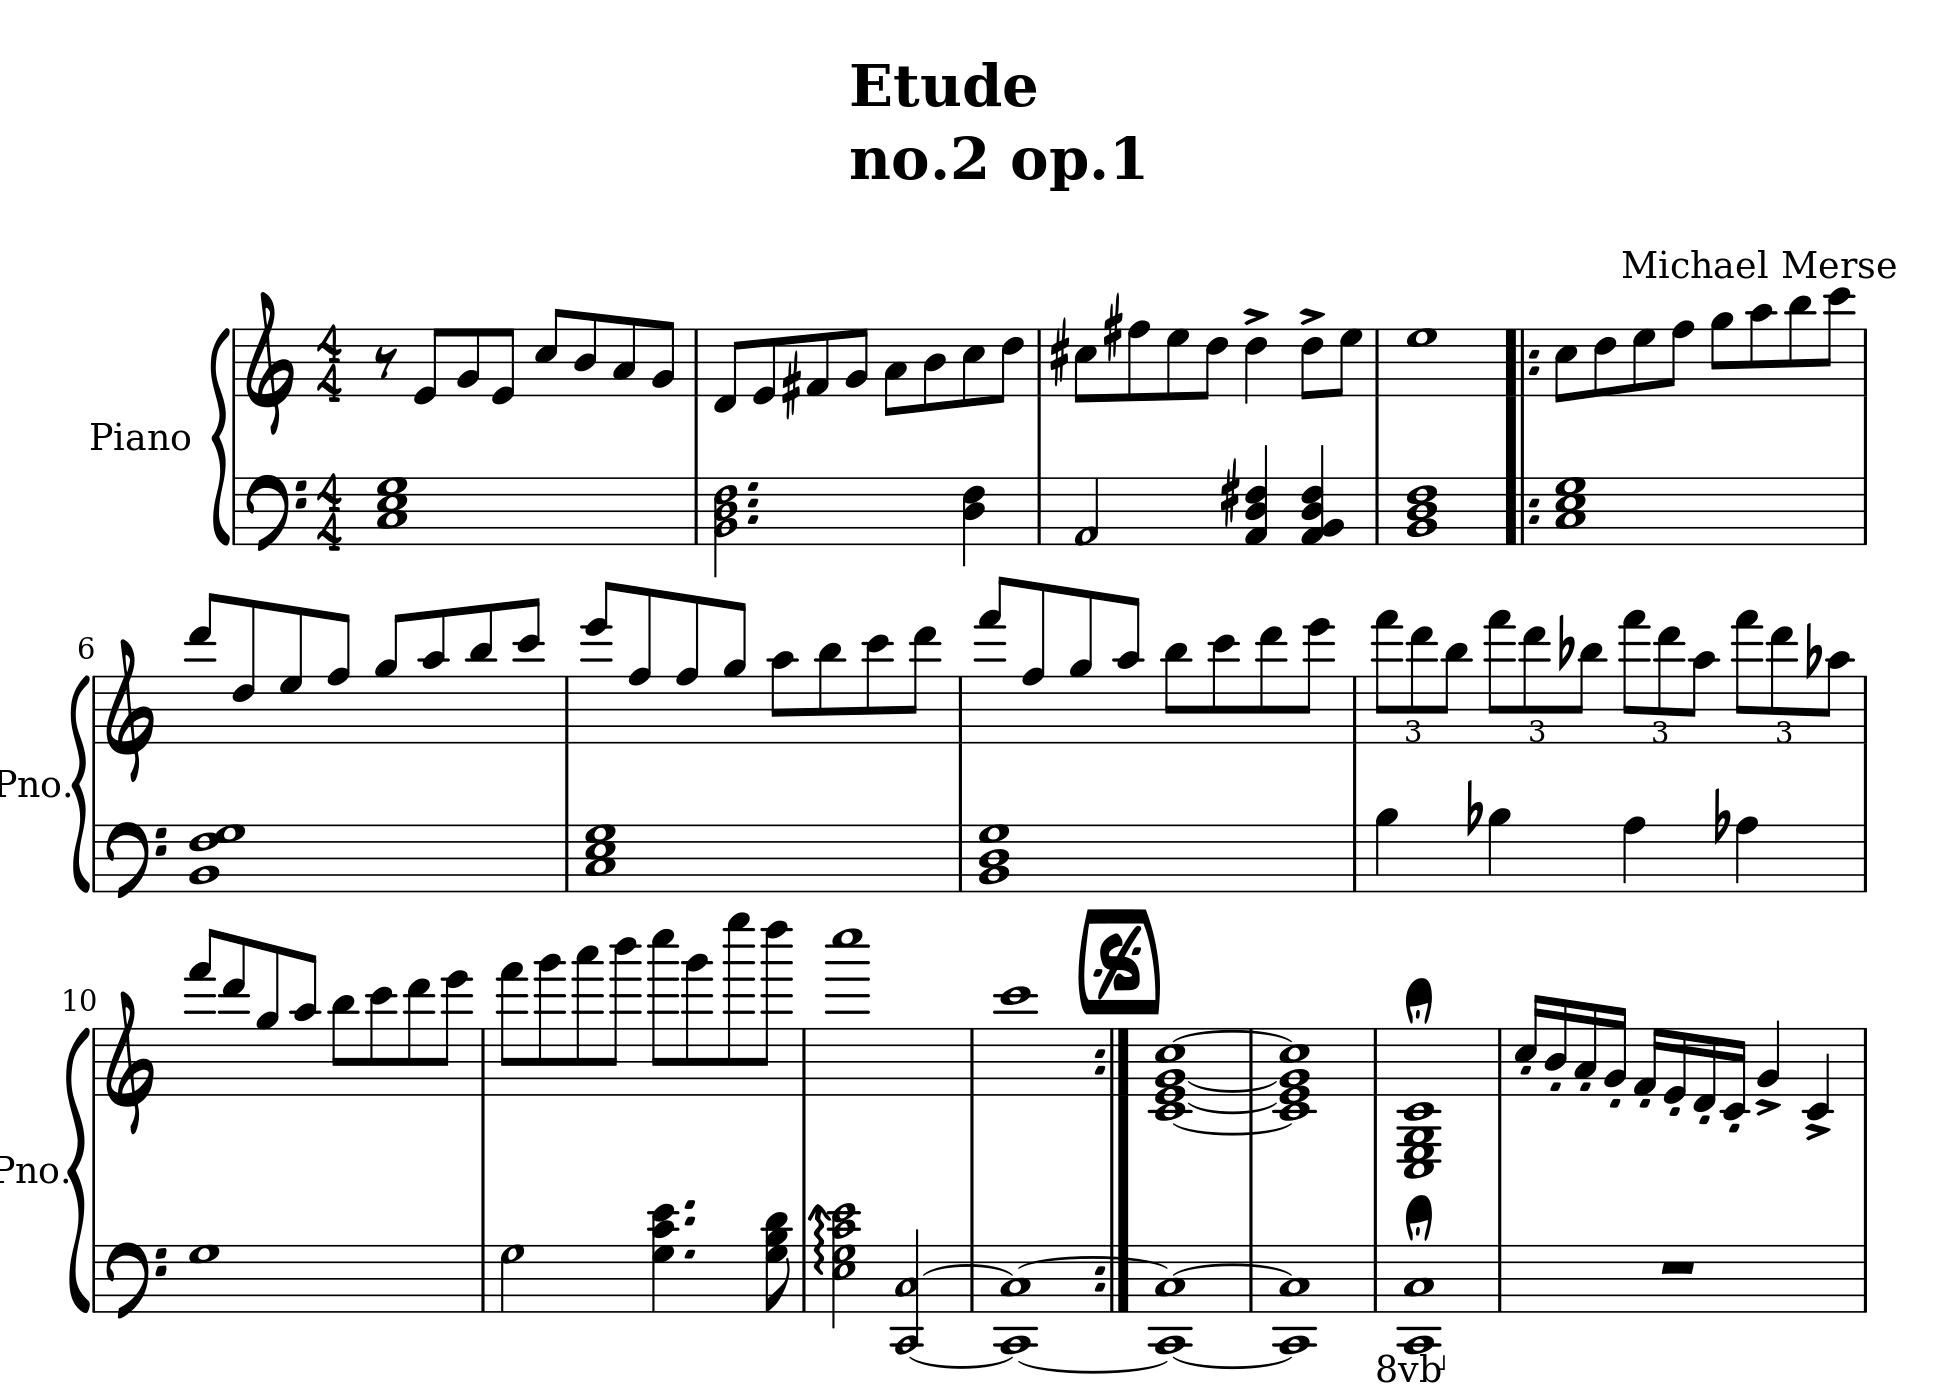0: (78, 984, 96, 1012)
1: (61, 985, 76, 1012)
16_-1: (1692, 1024, 1719, 1113)
16_-2: (1719, 1024, 1747, 1120)
16_0: (1662, 1024, 1689, 1105)
16_1: (1632, 1024, 1663, 1096)
16_2: (1602, 1003, 1627, 1095)
16_3: (1572, 997, 1597, 1095)
16_4: (1545, 994, 1569, 1093)
16_5: (1513, 993, 1545, 1096)
1_-2_3: (1401, 1242, 1440, 1357), (1278, 1243, 1317, 1359), (1149, 1242, 1188, 1357), (997, 1243, 1036, 1359)
1_12: (997, 982, 1035, 1099)
1_4th: (1275, 1027, 1314, 1126), (1152, 1027, 1188, 1122), (1398, 1101, 1440, 1180)
1_7: (1407, 325, 1438, 397)
1_th: (375, 474, 409, 546), (1554, 474, 1588, 544), (976, 822, 1011, 892), (1407, 472, 1440, 544), (583, 820, 616, 892)
2_1: (1072, 475, 1101, 547)
2_4_6: (886, 1230, 925, 1354)
2_4th: (826, 1198, 859, 1330)
2_7: (499, 1242, 525, 1314)
2_th: (712, 475, 738, 576)
3: (1404, 718, 1422, 744), (1776, 718, 1794, 742), (1528, 718, 1545, 742), (1651, 718, 1668, 742)
4: (316, 361, 346, 403), (315, 322, 345, 363), (316, 510, 346, 550), (316, 471, 345, 511)
4_-2: (1803, 1024, 1833, 1120)
4_2: (1755, 1017, 1782, 1093)
4_4_6: (961, 475, 990, 568)
4_6: (1243, 325, 1269, 405)
4_8: (1734, 814, 1759, 894), (1621, 814, 1647, 892)
4_9: (1374, 805, 1401, 892), (1488, 805, 1512, 892)
4_th: (1300, 442, 1344, 547), (646, 1200, 679, 1309), (1245, 442, 1270, 544)
6: (76, 633, 94, 660)
8_-1: (712, 325, 745, 414)
8_0: (412, 325, 445, 406), (489, 325, 517, 408), (751, 327, 778, 406)
8_1: (805, 325, 832, 397)
8_10: (1114, 592, 1143, 745), (291, 948, 319, 1099), (418, 606, 448, 744), (1821, 649, 1854, 745), (768, 648, 796, 745), (1689, 648, 1717, 745), (1747, 301, 1776, 397)
8_11: (466, 601, 493, 745), (1573, 640, 1605, 744), (814, 640, 844, 745), (1440, 640, 1470, 745), (328, 993, 358, 1096), (1786, 294, 1815, 397), (1162, 640, 1191, 744)
8_12: (513, 592, 543, 745), (1821, 286, 1854, 397), (1209, 631, 1239, 745), (862, 633, 892, 745), (367, 984, 396, 1098)
8_13: (183, 588, 219, 745), (219, 930, 249, 1099), (904, 625, 940, 745), (1255, 624, 1287, 745), (403, 976, 433, 1098), (1407, 622, 1435, 745), (1654, 622, 1683, 745), (1768, 624, 1795, 747), (1521, 624, 1548, 745)
8_14: (580, 579, 615, 747), (1299, 616, 1335, 744), (436, 970, 472, 1095)
8_15: (973, 574, 1009, 745), (183, 925, 217, 1096), (496, 961, 529, 1098), (1372, 607, 1401, 747), (1732, 607, 1761, 744), (1620, 610, 1647, 745), (1485, 610, 1512, 744)
8_16: (682, 952, 712, 1096), (535, 954, 564, 1096)
8_17: (571, 946, 603, 1095)
8_18: (606, 936, 642, 1096)
8_19: (646, 927, 676, 1099)
8_2: (649, 318, 675, 397), (454, 325, 481, 397), (844, 325, 868, 397)
8_20: (756, 919, 790, 1098)
8_3: (882, 327, 907, 418), (610, 315, 637, 397)
8_4: (573, 310, 598, 397), (921, 327, 946, 412)
8_5: (532, 306, 565, 397), (961, 325, 985, 408), (1074, 327, 1098, 405), (1554, 325, 1578, 403)
8_6: (229, 595, 258, 748), (994, 327, 1026, 403), (1198, 327, 1230, 400), (1299, 325, 1324, 400), (1593, 325, 1617, 399)
8_7: (277, 603, 304, 745), (187, 1242, 220, 1314), (1332, 325, 1362, 397), (1164, 325, 1191, 400), (1630, 325, 1656, 397)
8_8: (627, 585, 654, 745), (1021, 580, 1047, 745), (673, 592, 700, 745), (325, 610, 352, 745), (1663, 318, 1695, 397), (1125, 318, 1152, 402)
8_9: (373, 610, 405, 745), (1068, 588, 1095, 745), (255, 937, 280, 1102), (721, 597, 748, 747), (1710, 310, 1735, 397)
8_th: (763, 1210, 792, 1315)
Accent_above: (1240, 304, 1272, 325), (1299, 304, 1327, 325), (1803, 1120, 1833, 1140)
Arpeggio: (807, 1198, 826, 1272)
Brace: (67, 1024, 91, 1312), (70, 672, 90, 892)
Fclef: (105, 1239, 168, 1323), (105, 819, 169, 900), (244, 472, 307, 553)
Flat: (1464, 777, 1483, 838), (1713, 784, 1731, 846), (1557, 612, 1575, 672), (1804, 619, 1822, 679)
Gclef: (103, 634, 157, 783), (103, 987, 157, 1135), (243, 289, 295, 435)
L: (1503, 475, 1539, 544)
LeftRepeatSign: (1501, 327, 1540, 396)
Pno: (85, 418, 193, 451), (1, 1150, 58, 1186), (1, 766, 60, 799)
Rests1: (1657, 1255, 1699, 1278)
Rests8: (372, 343, 399, 379)
RightRepeatSign: (1093, 1026, 1132, 1095), (1095, 1245, 1134, 1312)
Segno: (1092, 922, 1149, 997)
Sharp: (1219, 456, 1242, 528), (780, 352, 801, 420), (1102, 294, 1123, 361), (1050, 318, 1069, 388)
Single_barline: (1368, 477, 1387, 544), (474, 1027, 492, 1096), (964, 1243, 982, 1312), (1242, 1243, 1260, 1312), (1368, 328, 1386, 396), (951, 823, 969, 891), (474, 1243, 492, 1311), (558, 823, 576, 889), (1347, 823, 1365, 889), (963, 1027, 981, 1093), (795, 1027, 813, 1093), (952, 675, 969, 742), (1857, 675, 1873, 742), (1857, 1027, 1873, 1095), (1492, 1243, 1509, 1311), (1347, 676, 1363, 742), (1857, 825, 1873, 891), (1491, 1027, 1507, 1093), (1243, 1029, 1260, 1093), (1858, 327, 1873, 397), (1368, 1243, 1383, 1312), (688, 328, 703, 396), (1857, 477, 1872, 544), (559, 675, 574, 742), (796, 1243, 811, 1311), (1857, 1245, 1872, 1312), (1032, 328, 1047, 394), (688, 475, 703, 541), (1368, 1027, 1383, 1093), (1032, 477, 1047, 541), (88, 1027, 102, 1096), (228, 328, 241, 396), (88, 1245, 102, 1309), (228, 478, 241, 541), (88, 676, 100, 744), (88, 825, 100, 889)
Slur: (210, 324, 231, 547), (1015, 1359, 1170, 1375), (1020, 1255, 1173, 1270), (1173, 1261, 1296, 1276), (937, 1258, 1009, 1282), (1171, 1029, 1291, 1042), (1173, 1356, 1293, 1368), (1173, 1123, 1291, 1135), (909, 1354, 1012, 1368), (1185, 1078, 1278, 1092), (1185, 1099, 1278, 1113)
TimeSig: (313, 322, 346, 403), (315, 472, 345, 553)
dot: (679, 1212, 700, 1228), (681, 1195, 699, 1213), (681, 1243, 697, 1260), (745, 478, 760, 495), (745, 511, 760, 525), (745, 496, 760, 508)
